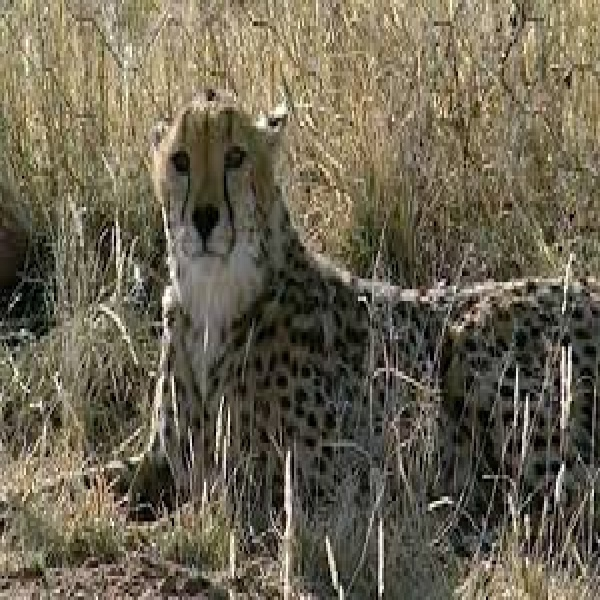Cheetah: (92, 84, 599, 564)
